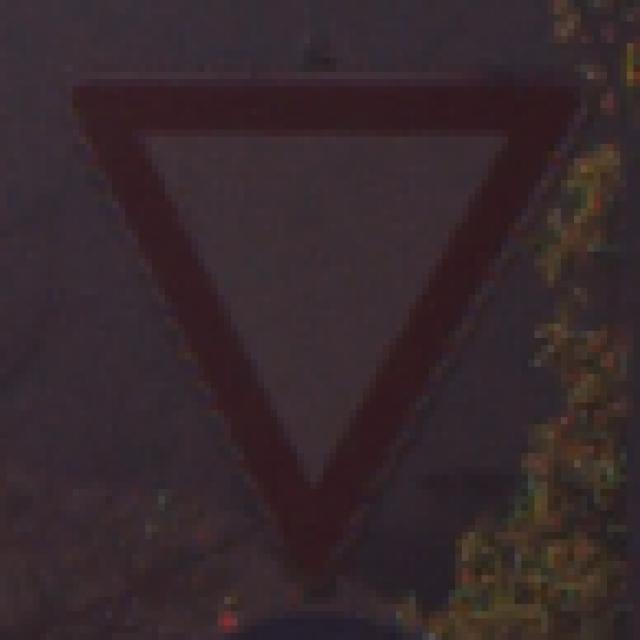Give Way: (54, 52, 588, 584)
